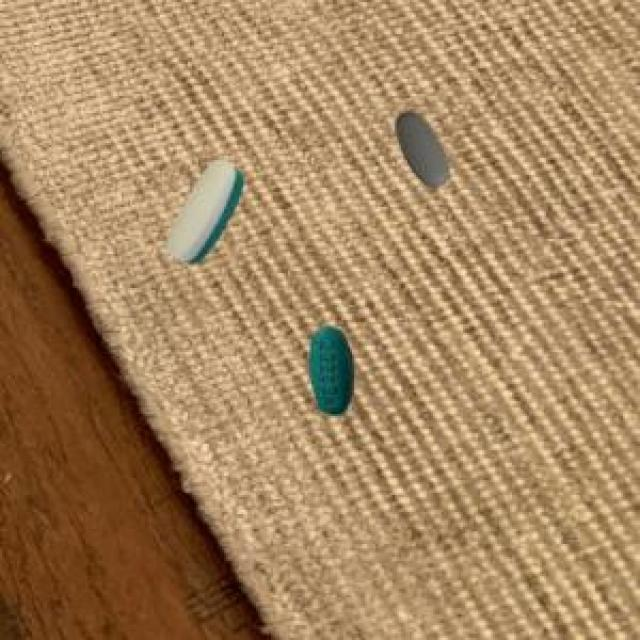Neozep: (157, 156, 256, 272), (295, 310, 368, 434), (389, 106, 465, 199)
